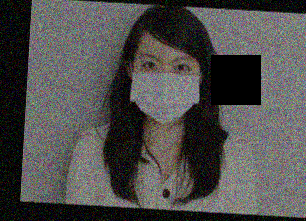with_mask: (130, 54, 200, 123)
